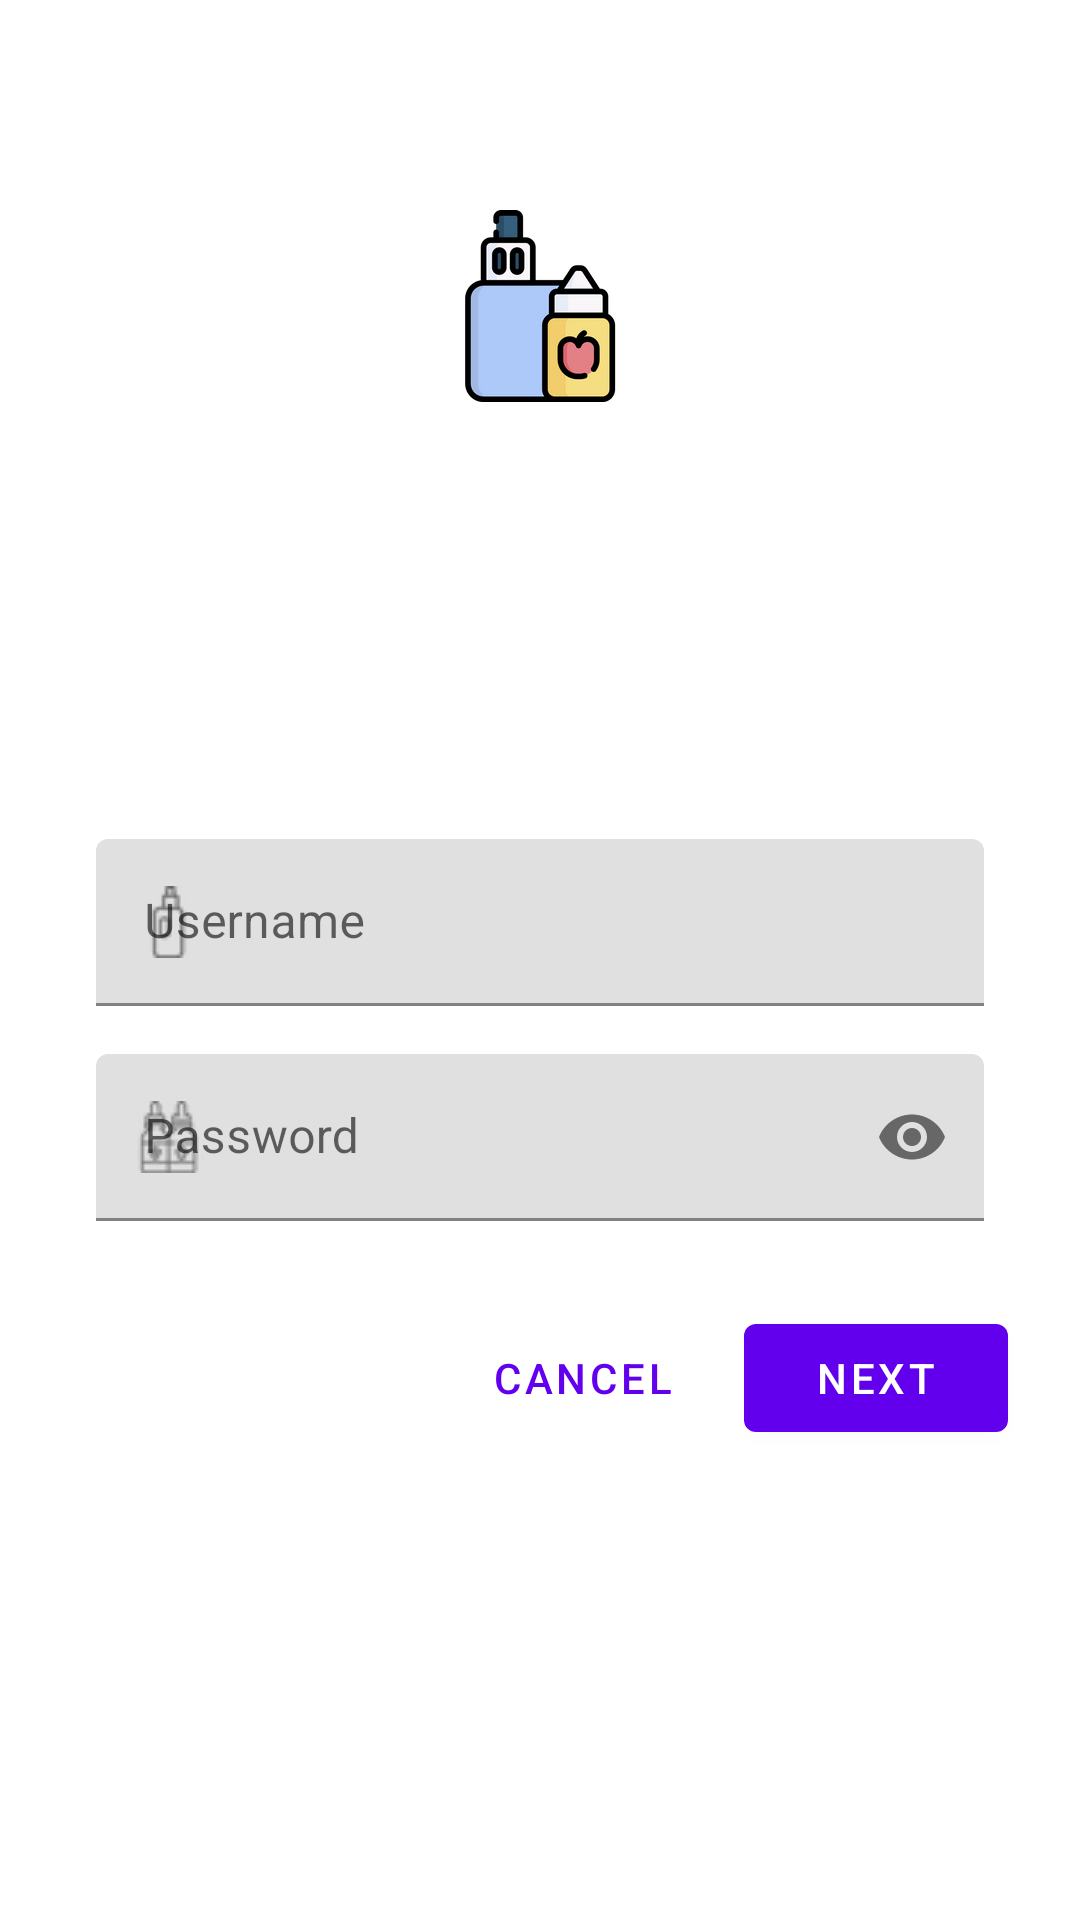

Where to tap for icons on this 1080×1920 app screen, as (x,y):
vapear: (540,306)
